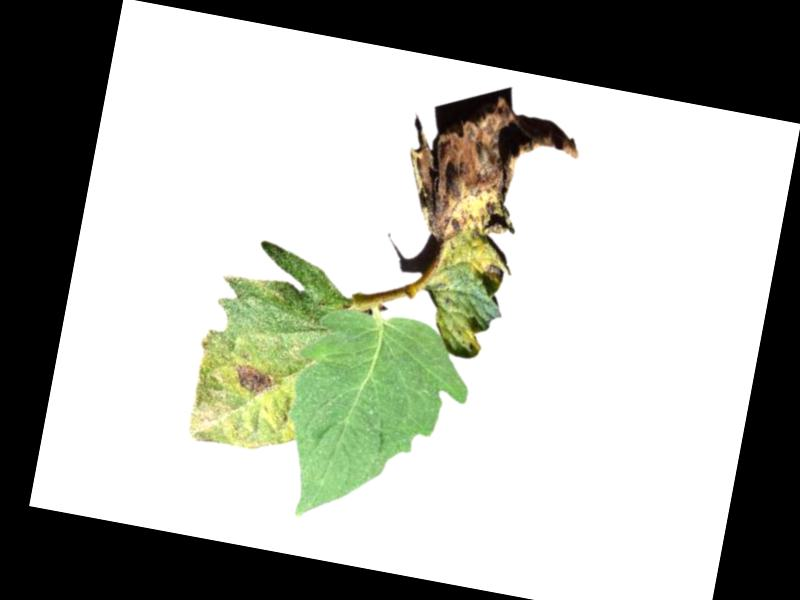Early_blight: (387, 81, 591, 295), (230, 363, 275, 401)
healthy: (271, 300, 481, 546)
